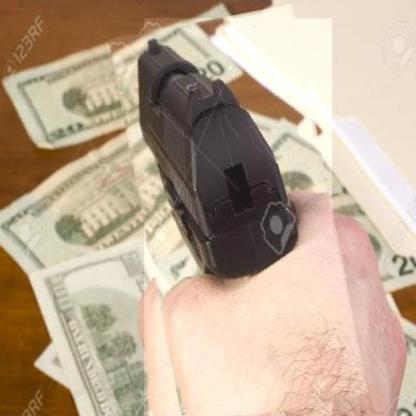handgun: (126, 11, 350, 416)
